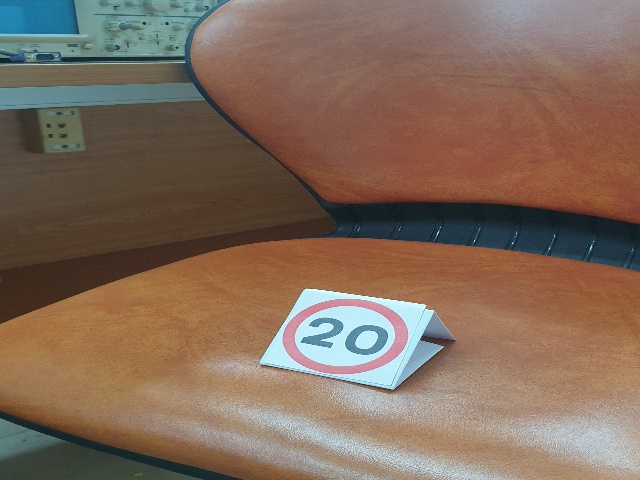Limit 20: (283, 299, 409, 376)
